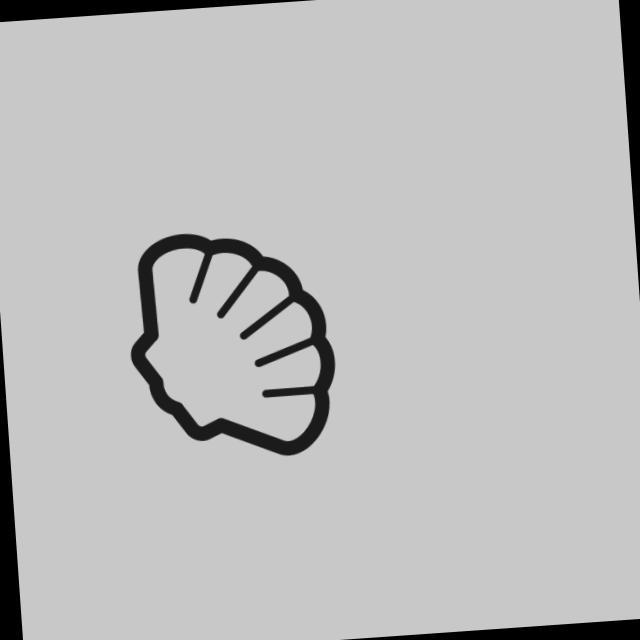shell: (118, 219, 345, 472)
